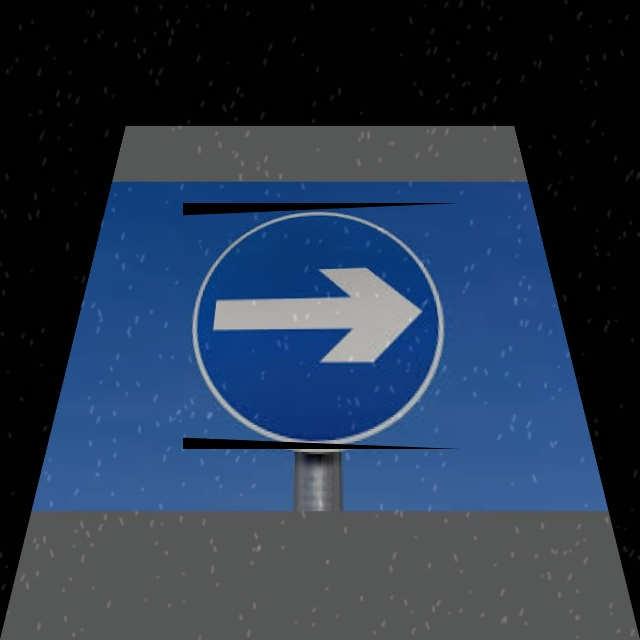Compulsory_Turn_Right: (183, 203, 461, 449)
